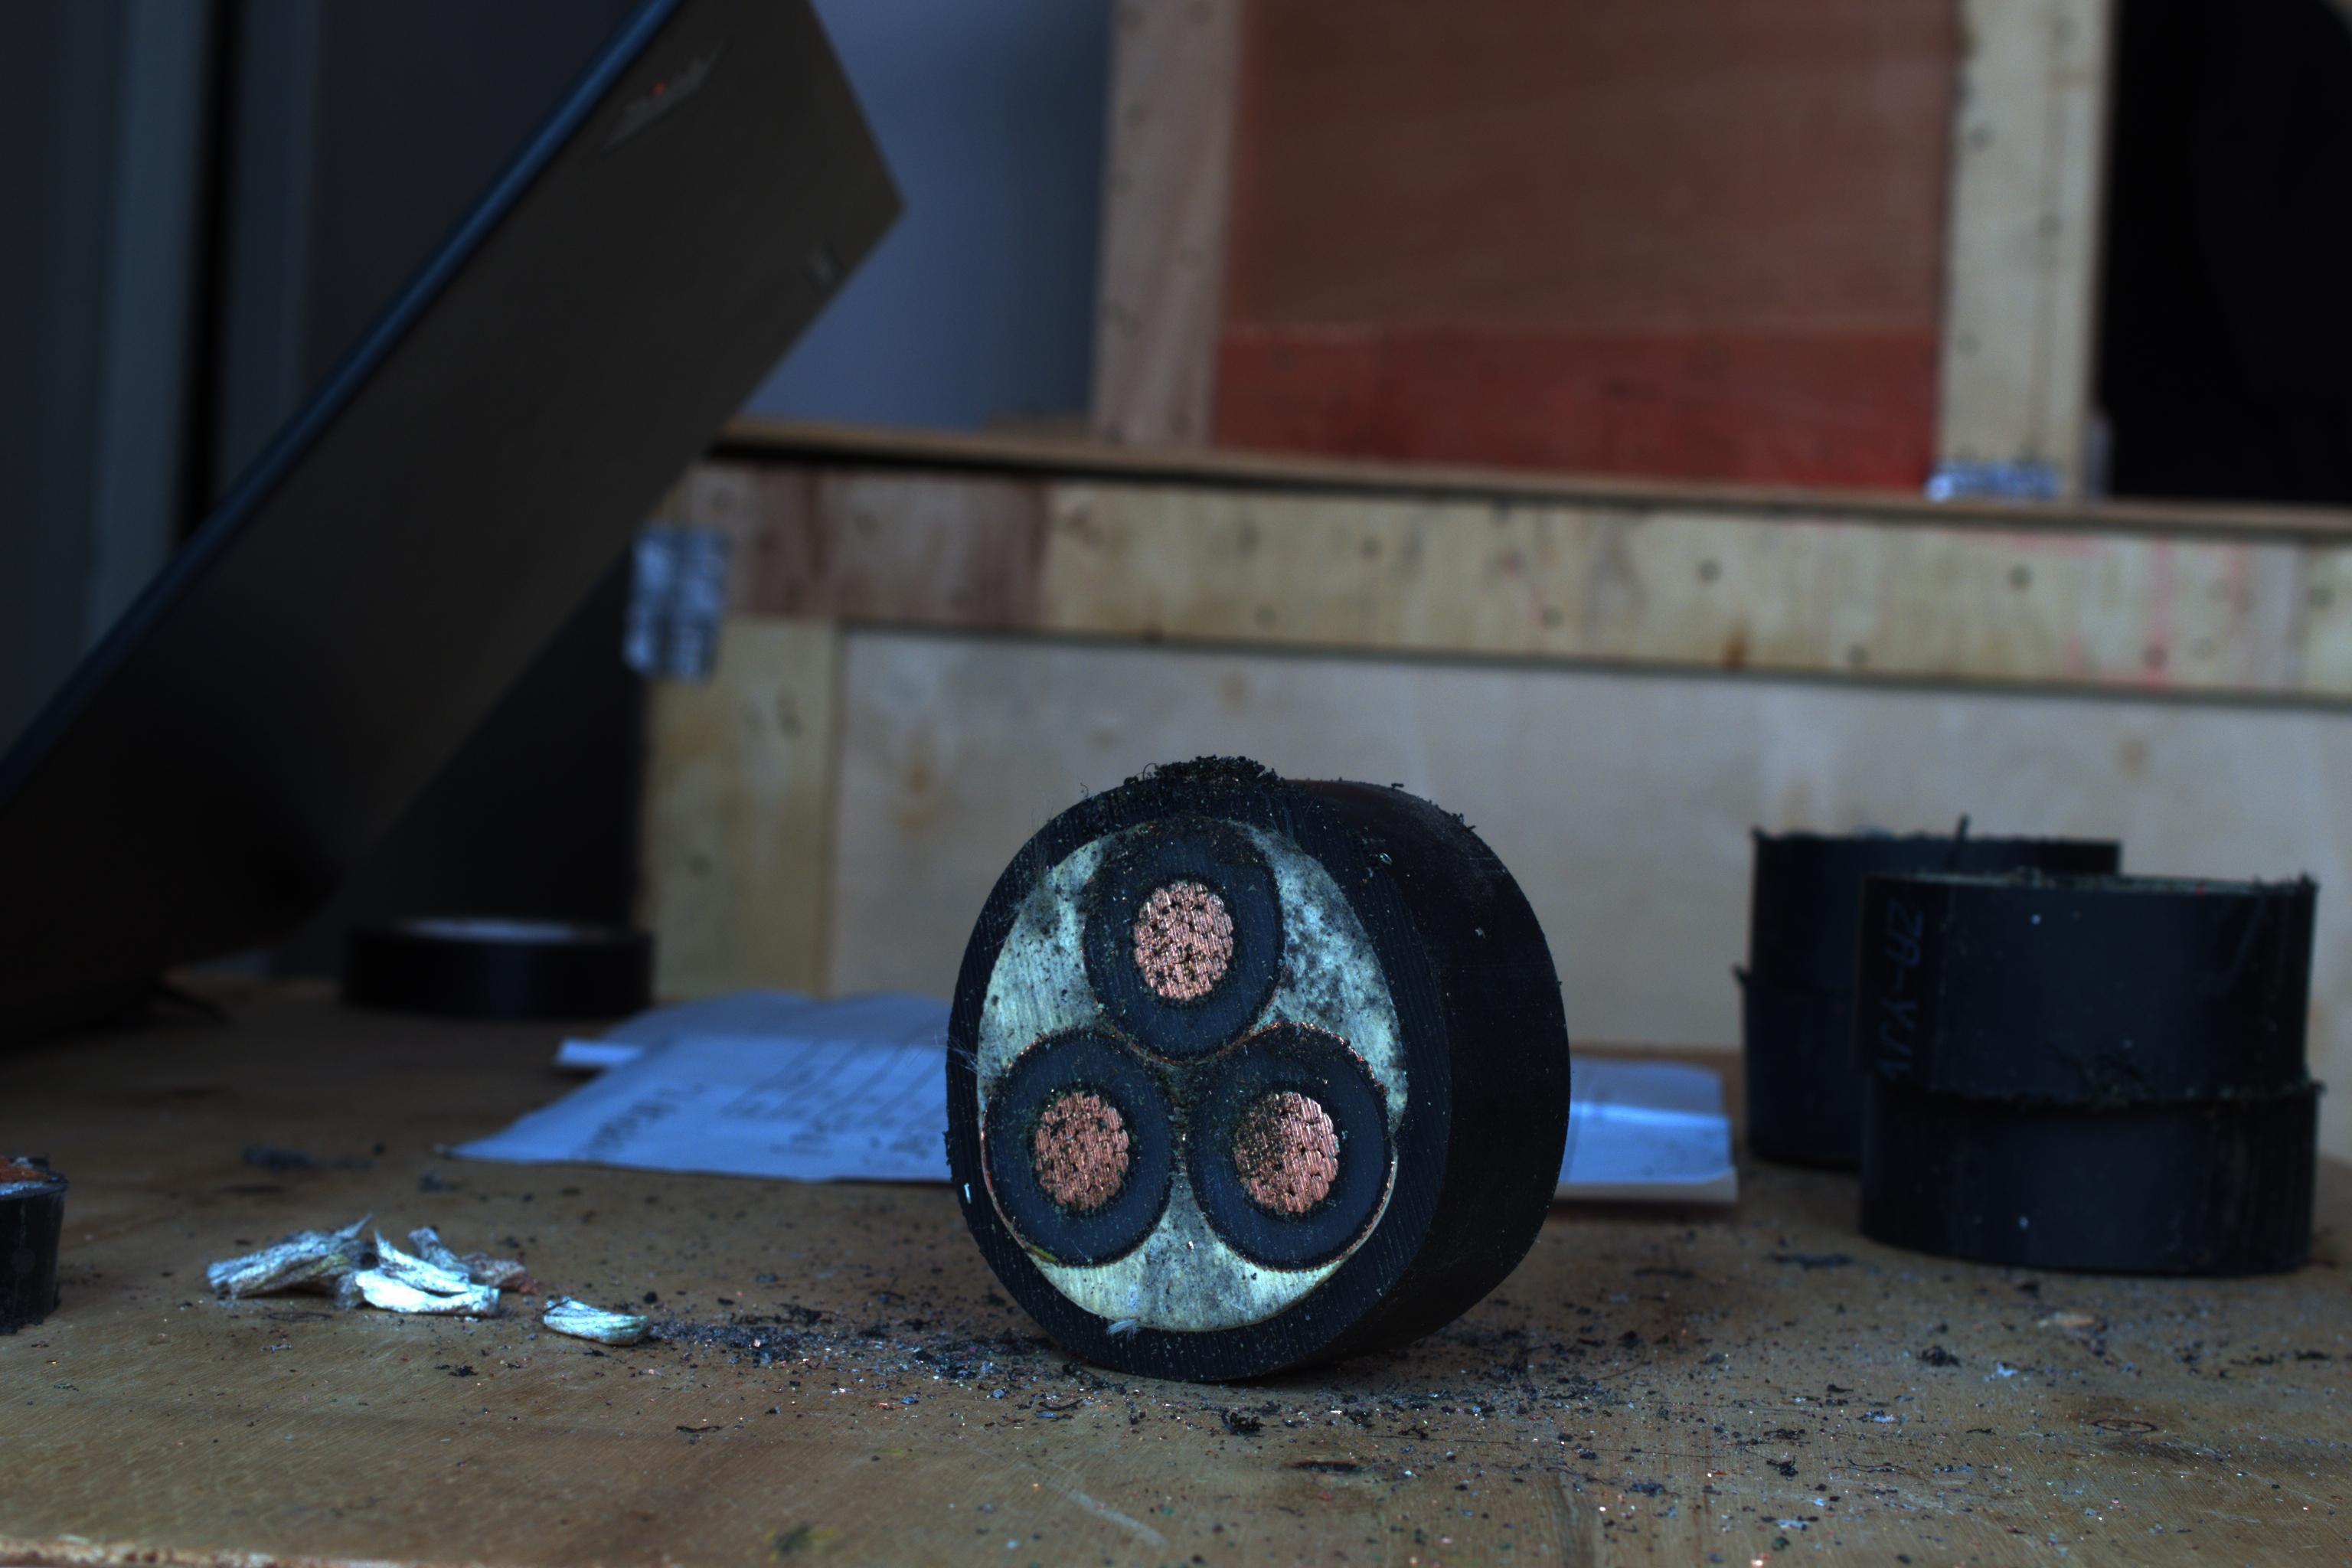ZA_YJV_8.7_10kV_3x120: (957, 763, 1414, 1335)
